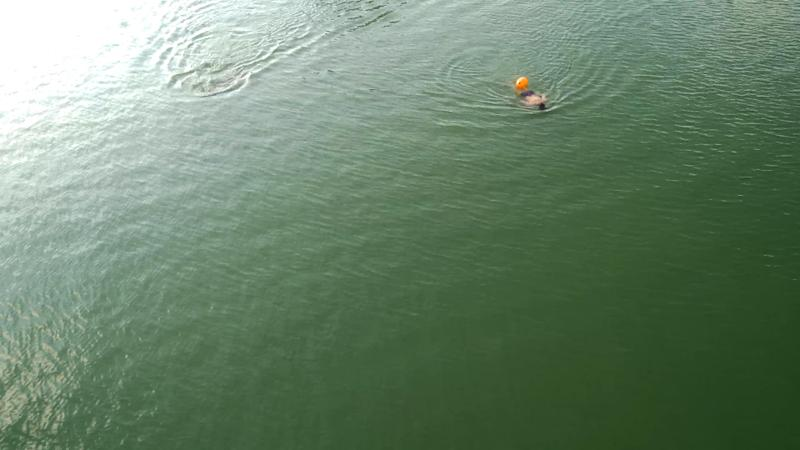swimmers: (513, 83, 546, 111)
